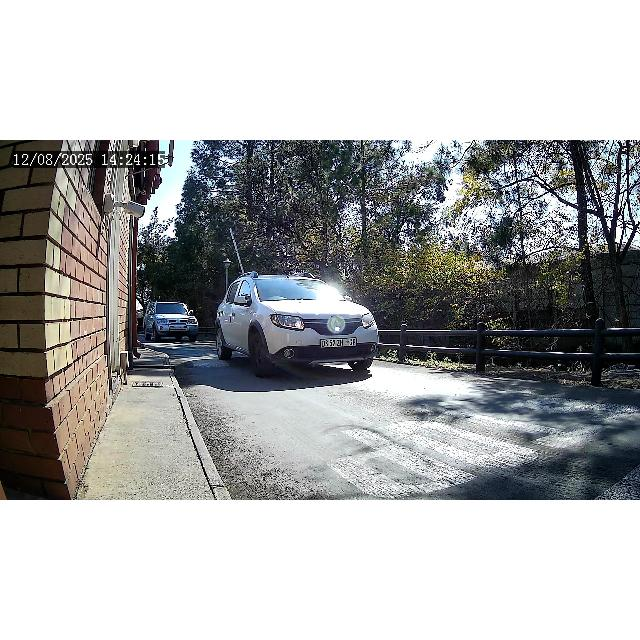car: (215, 272, 381, 378), (141, 301, 199, 344)
plate: (319, 338, 357, 347)
